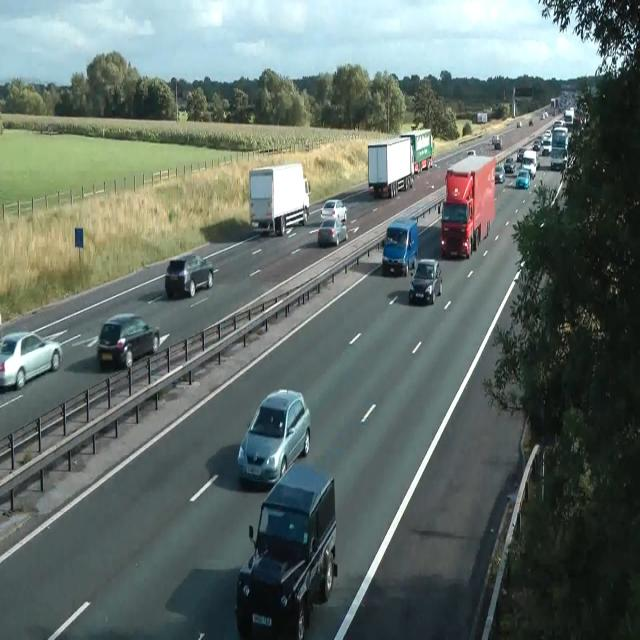bus: (0, 330, 62, 390), (164, 253, 218, 298), (408, 258, 442, 305), (317, 216, 348, 246), (320, 198, 348, 222), (549, 148, 567, 170), (516, 169, 530, 188), (495, 163, 505, 183), (492, 134, 502, 150), (504, 156, 514, 172), (517, 148, 525, 162), (533, 138, 541, 150), (466, 148, 476, 156), (542, 110, 548, 118), (516, 120, 522, 127), (529, 118, 533, 126)
jeep: (235, 460, 338, 638), (237, 388, 311, 486), (96, 312, 160, 371), (382, 218, 418, 276)
minibus: (440, 154, 496, 258), (248, 162, 310, 236), (368, 137, 414, 198), (400, 127, 434, 174), (550, 126, 568, 170), (564, 107, 574, 128), (477, 112, 487, 123)
